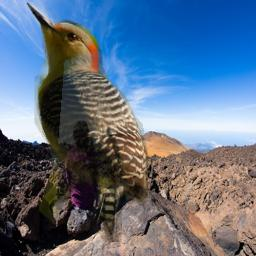Woodpecker: (25, 2, 148, 242)
